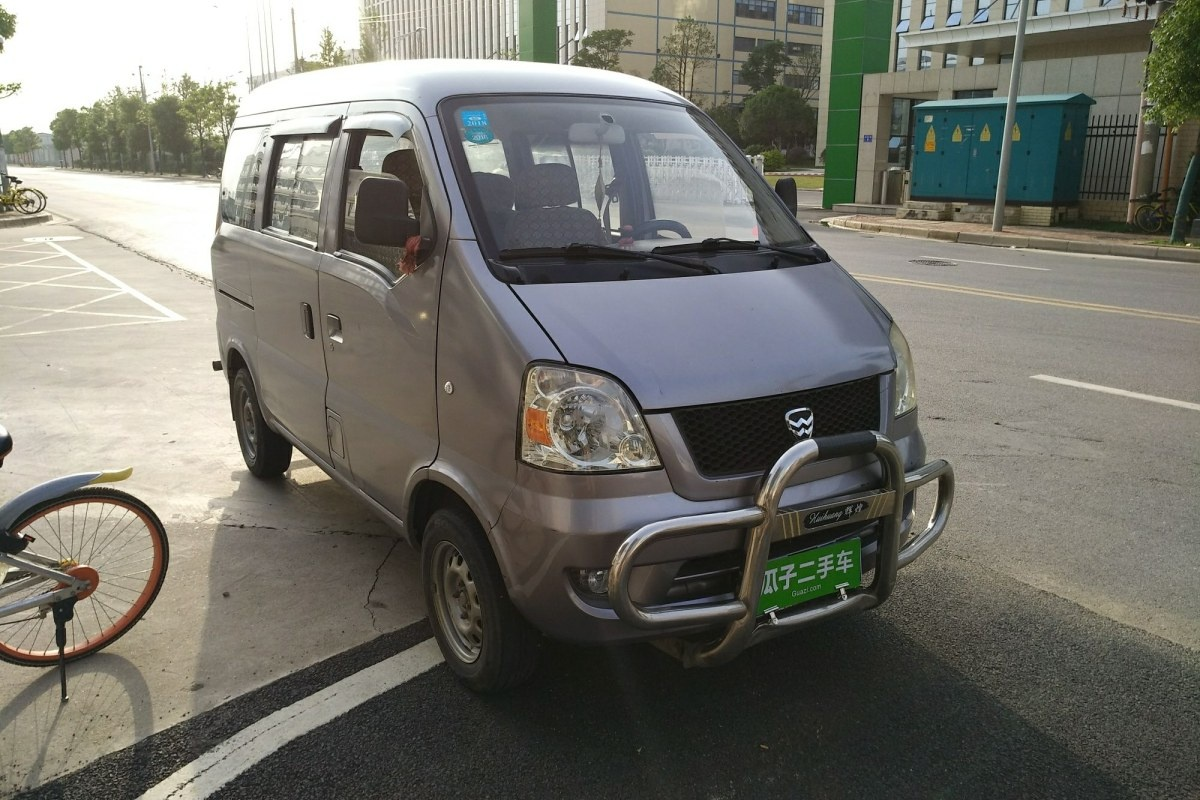minibus: (201, 47, 954, 672)
